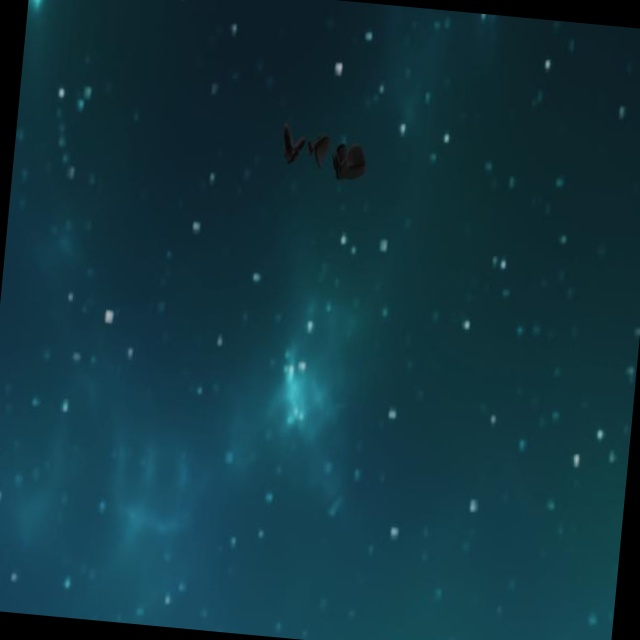large_debris: (329, 136, 371, 191), (303, 127, 330, 174), (273, 123, 301, 164)
